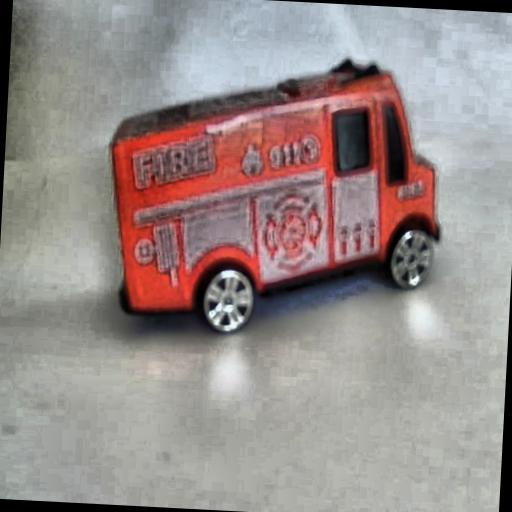fire_truck: (98, 47, 449, 344)
